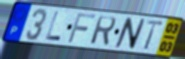3: (25, 7, 48, 42)
F: (66, 12, 98, 44)
L: (44, 11, 62, 43)
N: (113, 16, 147, 51)
R: (89, 15, 117, 47)
T: (142, 19, 166, 51)
